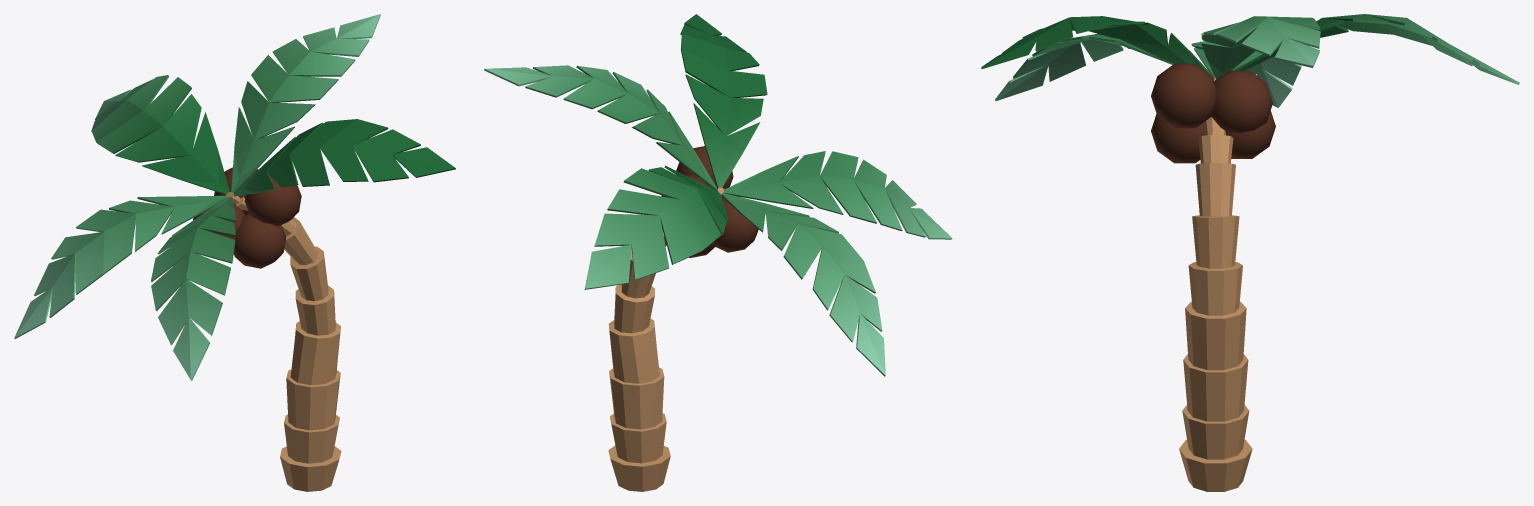
Rendered from Coconut_1.fbx.
The picture shows the model from 3 angles, left to right: view 1: azimuth 30°, elevation 25°; view 2: azimuth 150°, elevation 25°; view 3: azimuth 270°, elevation 25°; orthographic projection. The views are drawn at different scales.
Parts seen in each view (by area): view 1: Coconut_1.001; view 2: Coconut_1.001; view 3: Coconut_1.001.
Boxes of the visible parts, left/top/right/bottom form: Coconut_1.001: left=14, top=14, right=455, bottom=491; Coconut_1.001: left=484, top=14, right=952, bottom=491; Coconut_1.001: left=981, top=14, right=1519, bottom=491.
Size of the model in its own units: 2.43 by 2.55 by 2.5.
